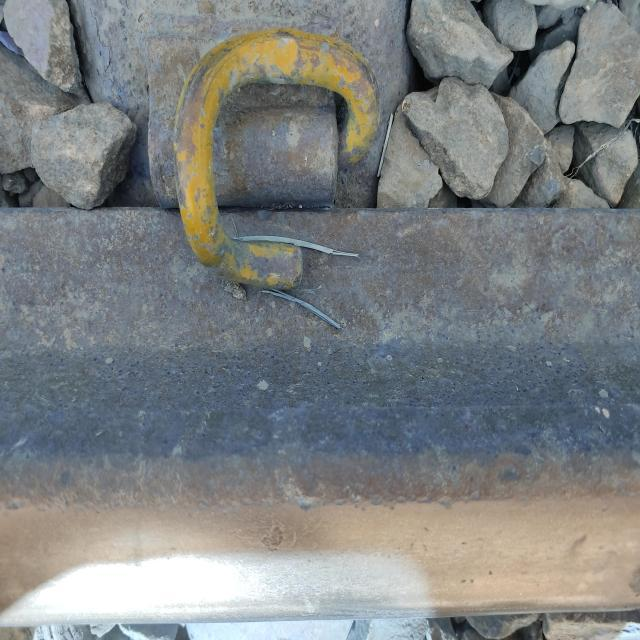Good Fasteners: (117, 4, 415, 291)
